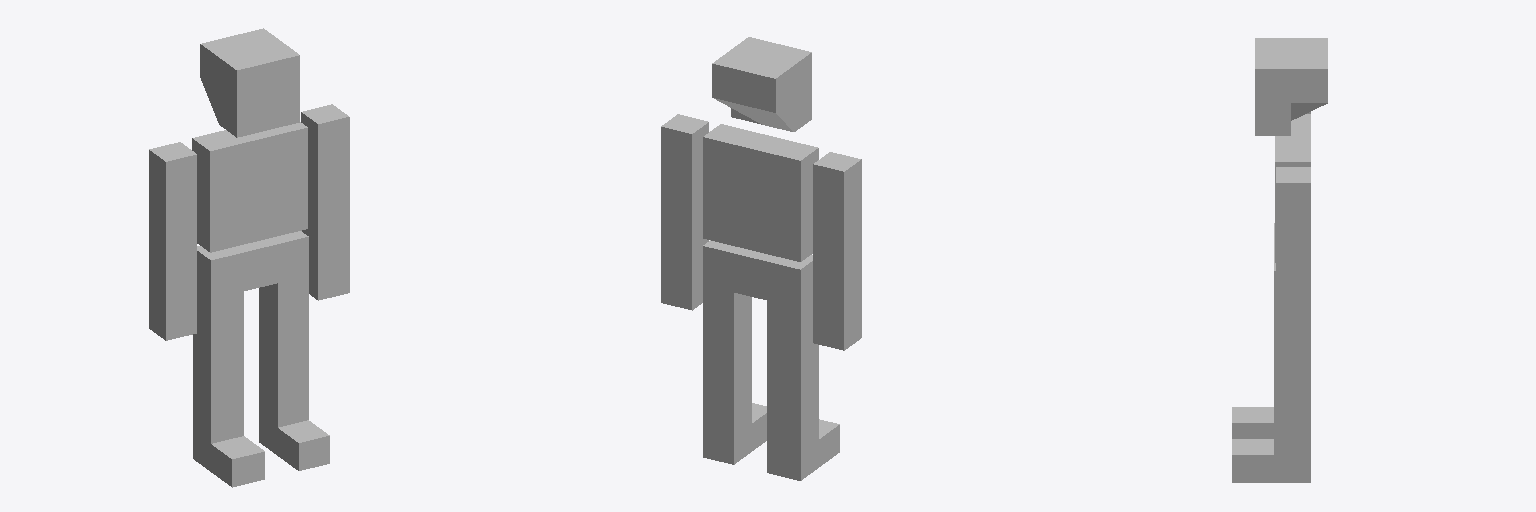
The model's file is SculptModel_Zbrush.obj.
3 renders of one model, left to right at view 1: azimuth 30°, elevation 25°; view 2: azimuth 150°, elevation 25°; view 3: azimuth 270°, elevation 25°, orthographic.
Parts seen in each view (by area): view 1: pCube3, pCube1, pCube2 polySurface3, pCube4, pCube2 polySurface6; view 2: pCube3, pCube1, pCube2 polySurface3, pCube2 polySurface6, pCube4; view 3: pCube3, pCube2 polySurface6, pCube4, pCube1.
Boxes of the visible parts, <box> form: pCube3: <box>193,231,329,487</box>; pCube1: <box>192,122,307,252</box>; pCube2 polySurface3: <box>149,142,196,340</box>; pCube4: <box>200,28,299,137</box>; pCube2 polySurface6: <box>301,104,349,300</box>; pCube3: <box>703,240,839,480</box>; pCube1: <box>703,124,818,261</box>; pCube2 polySurface3: <box>813,152,861,350</box>; pCube2 polySurface6: <box>661,114,708,310</box>; pCube4: <box>712,37,811,131</box>; pCube3: <box>1232,223,1310,482</box>; pCube2 polySurface6: <box>1276,167,1310,358</box>; pCube4: <box>1255,38,1327,135</box>; pCube1: <box>1275,114,1310,262</box>.
Bounding box in the file's own units: 11.22 × 23.63 × 5.09.